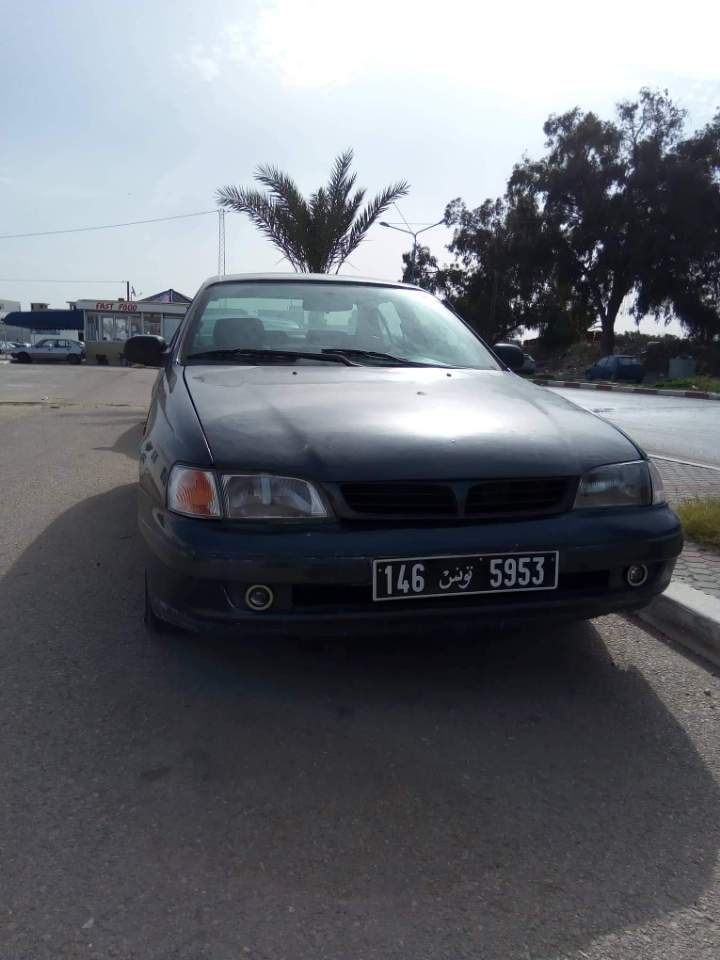LP: (372, 553, 556, 599)
